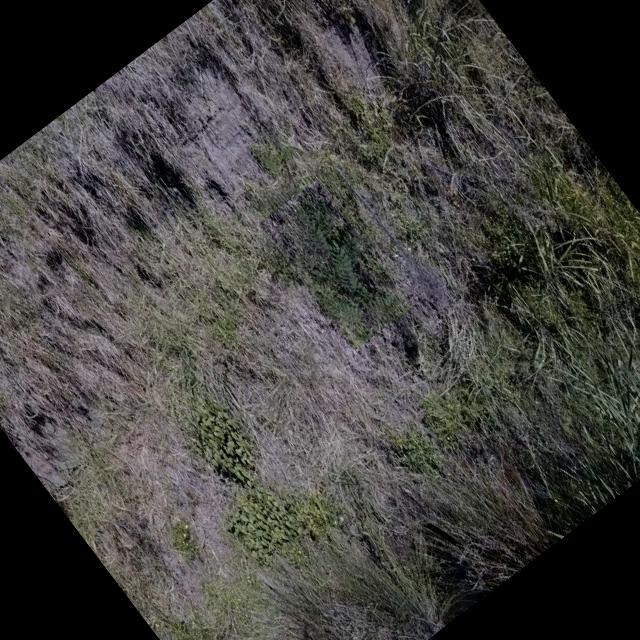Mysore-Thorn-Weed: (260, 180, 412, 350)
